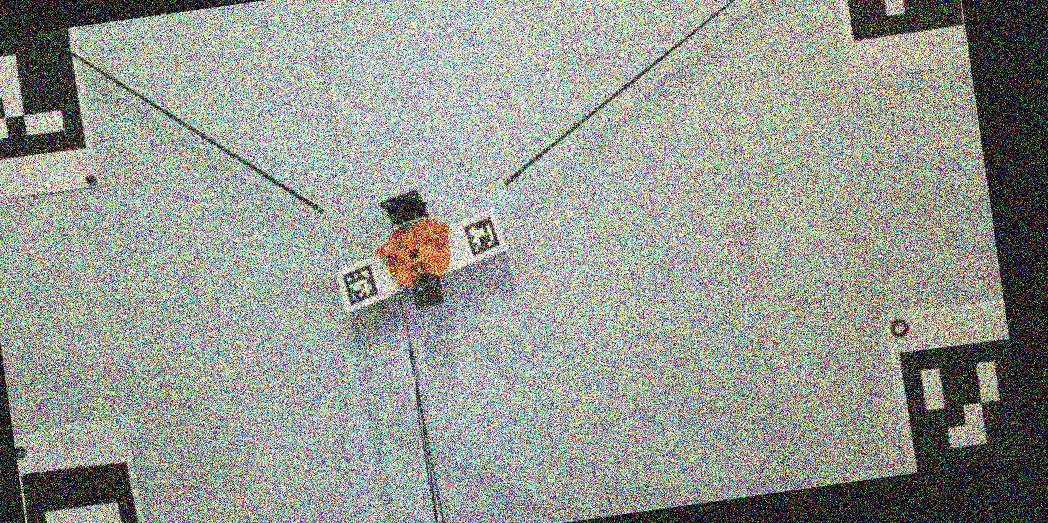robot: (378, 190, 451, 308)
